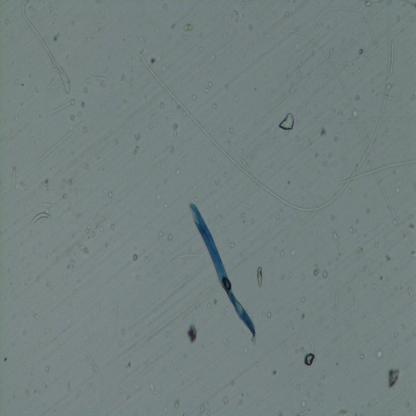Background material: (84, 352, 102, 379), (280, 112, 298, 135), (386, 366, 402, 390), (185, 318, 200, 343), (256, 263, 266, 288), (144, 116, 158, 133), (304, 352, 316, 368), (150, 53, 164, 66), (232, 4, 241, 24), (150, 381, 162, 396), (10, 163, 18, 185), (239, 209, 249, 226), (183, 21, 197, 33), (318, 120, 327, 138), (296, 406, 311, 416), (173, 166, 185, 178), (330, 134, 342, 146), (80, 242, 90, 256), (203, 79, 213, 93), (173, 398, 183, 412), (312, 260, 320, 277), (328, 229, 340, 240), (406, 284, 414, 300), (170, 122, 179, 136), (116, 74, 126, 86), (401, 0, 416, 8), (51, 31, 60, 44), (320, 156, 328, 170), (375, 349, 383, 362), (353, 228, 361, 240), (305, 176, 313, 188), (253, 114, 260, 127), (354, 246, 364, 255), (112, 304, 121, 314), (342, 318, 350, 328), (328, 45, 336, 55), (384, 253, 392, 263), (133, 132, 143, 140), (215, 173, 221, 186), (44, 364, 53, 372), (405, 401, 412, 411), (357, 46, 364, 56), (300, 293, 306, 304), (68, 175, 74, 186), (133, 148, 144, 154), (225, 242, 236, 248), (288, 248, 296, 256), (32, 312, 40, 320), (221, 397, 228, 406), (66, 381, 72, 391), (85, 223, 91, 233), (222, 339, 229, 347), (131, 253, 139, 260), (407, 221, 414, 229), (238, 398, 244, 407), (43, 180, 49, 189), (367, 0, 372, 10), (323, 269, 328, 279), (205, 409, 212, 416), (358, 16, 365, 23), (377, 274, 383, 282), (48, 4, 54, 12), (410, 94, 416, 102), (392, 330, 398, 338), (106, 190, 112, 198), (82, 85, 88, 93), (26, 387, 31, 396), (181, 109, 186, 118), (356, 93, 361, 102), (379, 316, 386, 322), (234, 95, 240, 102), (157, 194, 163, 201), (275, 212, 281, 219), (314, 151, 320, 158), (212, 299, 218, 306), (117, 389, 124, 395), (348, 226, 353, 234), (243, 346, 248, 354), (395, 14, 400, 22), (69, 98, 74, 106), (358, 353, 366, 358), (396, 186, 401, 194), (46, 280, 51, 288), (213, 102, 218, 110), (110, 221, 115, 229), (230, 126, 235, 134), (168, 233, 173, 241), (223, 306, 228, 314), (301, 400, 307, 406), (266, 311, 272, 317), (301, 311, 305, 320), (117, 340, 123, 346), (78, 101, 84, 107), (85, 76, 90, 83), (191, 95, 196, 102), (114, 137, 118, 145), (356, 108, 360, 116), (342, 58, 346, 66), (84, 164, 90, 169), (272, 369, 278, 374), (52, 20, 57, 26), (128, 363, 134, 368), (315, 2, 320, 8), (296, 383, 300, 390), (256, 360, 260, 367), (280, 250, 284, 257), (201, 405, 205, 412), (121, 327, 125, 334), (405, 336, 410, 341), (331, 216, 336, 221), (140, 38, 146, 42), (251, 219, 255, 225), (100, 226, 104, 232), (159, 231, 163, 237), (409, 215, 413, 220), (411, 17, 415, 22), (70, 116, 74, 121), (5, 19, 9, 24), (53, 14, 58, 18), (171, 147, 174, 153), (132, 66, 135, 72), (29, 6, 33, 10), (78, 113, 82, 117), (388, 86, 392, 90), (63, 194, 67, 198), (21, 82, 24, 87), (373, 285, 376, 290), (160, 105, 163, 110), (301, 348, 304, 352), (282, 276, 284, 279)
Cotton: (189, 200, 257, 341)
Glass filter fibre: (138, 0, 393, 214), (293, 29, 416, 246), (21, 0, 71, 94), (35, 121, 85, 165), (341, 157, 416, 184), (370, 190, 379, 254), (242, 159, 258, 193), (179, 250, 204, 259), (32, 212, 52, 223), (88, 70, 110, 80), (383, 220, 391, 245), (389, 42, 395, 75), (53, 103, 71, 114), (202, 387, 215, 395), (369, 29, 376, 43), (310, 339, 314, 351)
